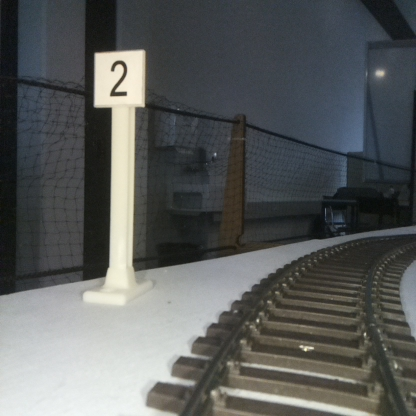white-info-2: (94, 51, 143, 302)
